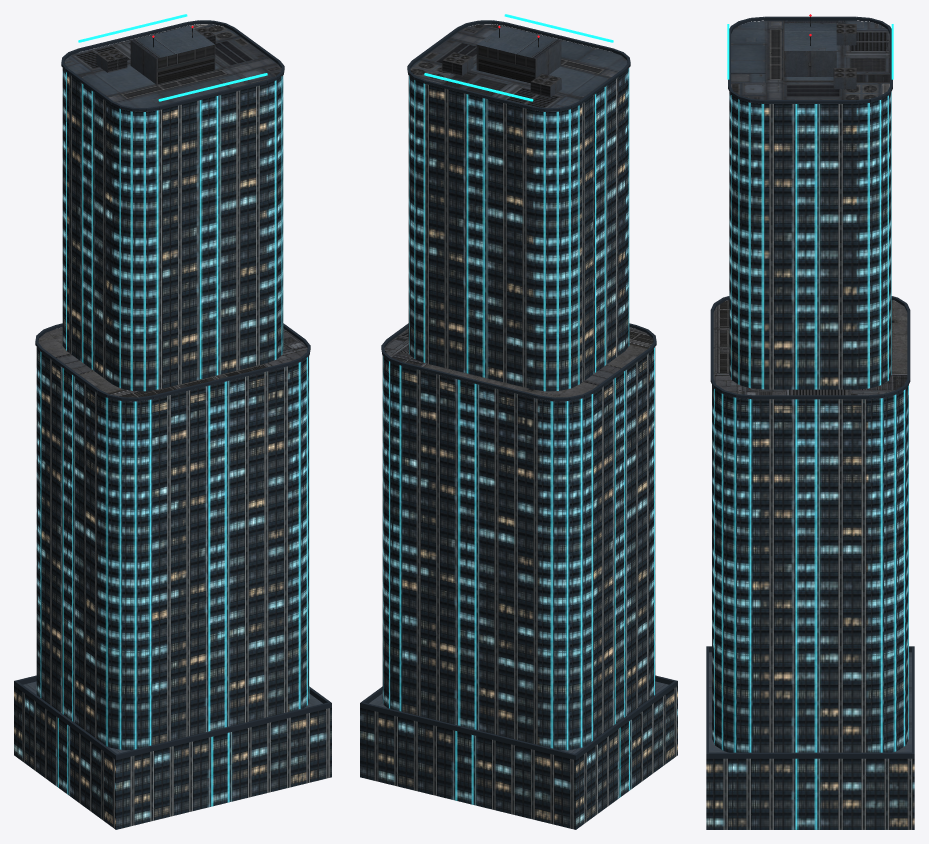
The model's file is commercial-rounded-glass-02.glb.
3 views of the same model, side by side, from view 1: azimuth 30°, elevation 25°; view 2: azimuth 150°, elevation 25°; view 3: azimuth 270°, elevation 25° (orthographic). The views are drawn at different scales.
Visible parts, largest first — view 1: commercial-rounded-glass-02; view 2: commercial-rounded-glass-02; view 3: commercial-rounded-glass-02.
Part boxes in pixels (bbox=[...]): commercial-rounded-glass-02: bbox=[14, 14, 331, 829]; commercial-rounded-glass-02: bbox=[360, 14, 677, 829]; commercial-rounded-glass-02: bbox=[706, 14, 914, 829].
Bounding box in the file's own units: 44 × 143 × 36.
Materials: 1 (1 with a texture image).
